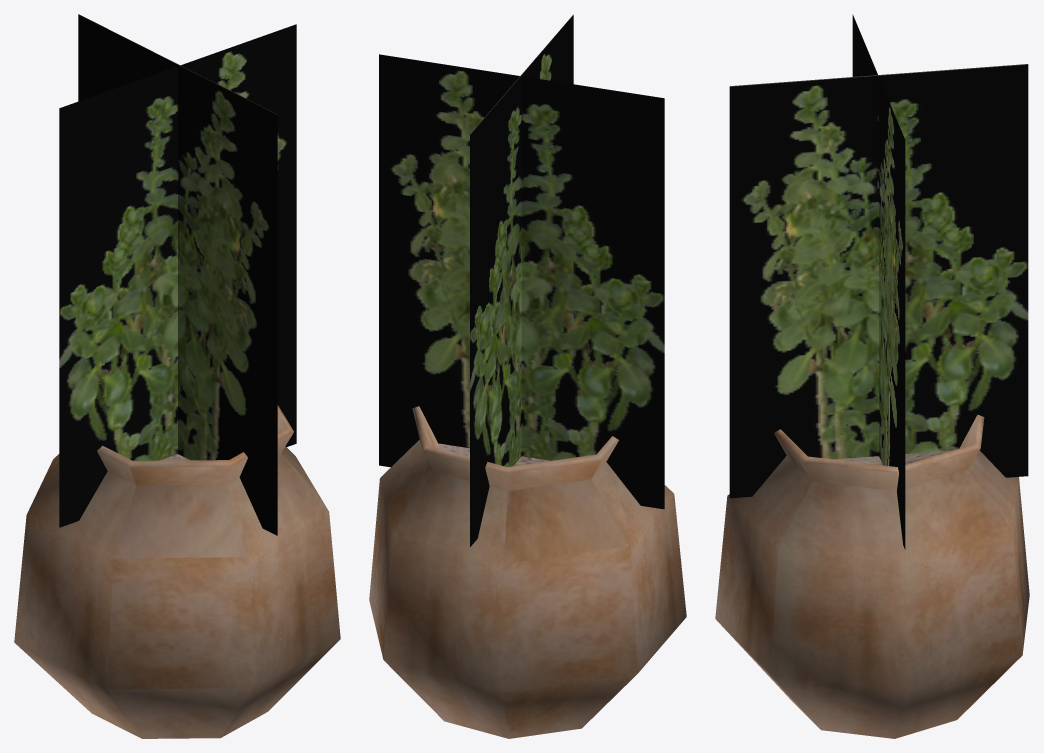
The picture shows the model from 3 angles, left to right: view 1: azimuth 30°, elevation 25°; view 2: azimuth 150°, elevation 25°; view 3: azimuth 270°, elevation 25°; orthographic projection. The views are drawn at different scales.
Visible parts, largest first — view 1: Plants_01002_Plants002_0, Plants_01002_Plaster_02001_0; view 2: Plants_01002_Plants002_0, Plants_01002_Plaster_02001_0; view 3: Plants_01002_Plants002_0, Plants_01002_Plaster_02001_0.
Boxes of the visible parts, bbox=[...] form: Plants_01002_Plants002_0: bbox=[59, 14, 296, 535]; Plants_01002_Plaster_02001_0: bbox=[14, 405, 340, 738]; Plants_01002_Plants002_0: bbox=[379, 14, 664, 547]; Plants_01002_Plaster_02001_0: bbox=[369, 406, 686, 738]; Plants_01002_Plants002_0: bbox=[729, 14, 1028, 549]; Plants_01002_Plaster_02001_0: bbox=[715, 414, 1029, 738].
Bounding box in the file's own units: 0.6955 × 1.51 × 0.6858.
Materials: 2 (2 with a texture image).
